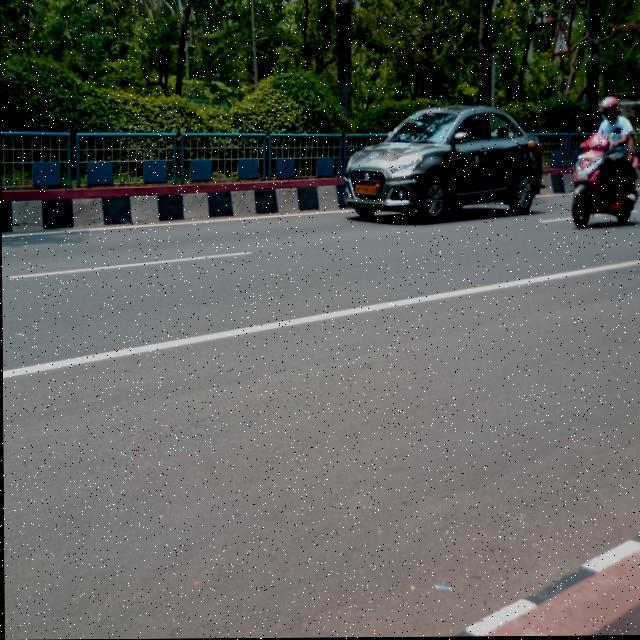bike: (563, 132, 640, 239)
car: (336, 104, 547, 242)
